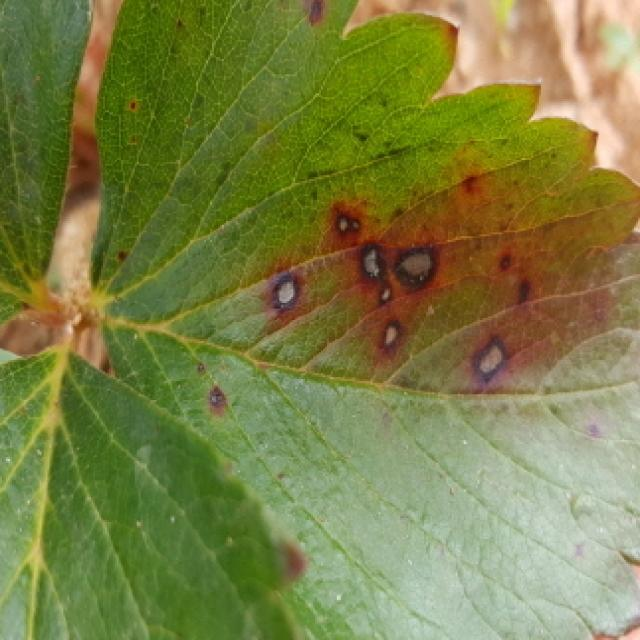Leaf Spot: (88, 0, 640, 640)
